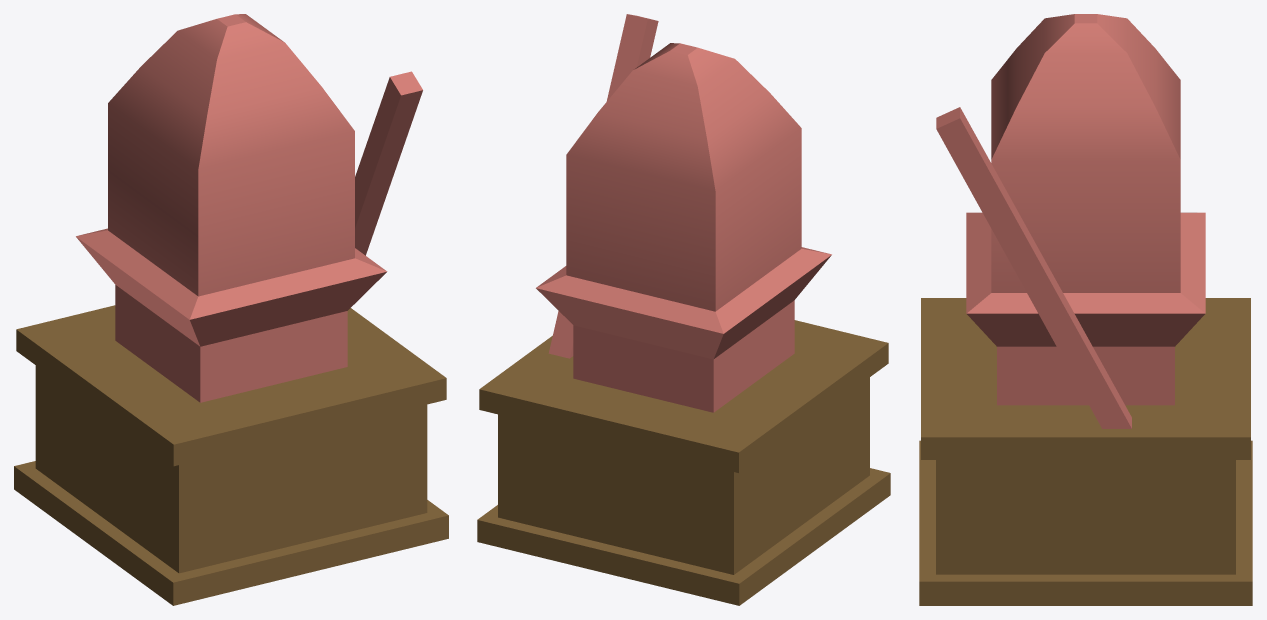
Rendered from bispo.fbx.
3 renders of one model, left to right at view 1: azimuth 30°, elevation 25°; view 2: azimuth 150°, elevation 25°; view 3: azimuth 270°, elevation 25°, orthographic. The views are drawn at different scales.
Visible parts, largest first — view 1: Plane; view 2: Plane; view 3: Plane.
Part boxes in pixels (x1,y1,x2,y2): Plane: [14, 14, 448, 605]; Plane: [477, 14, 890, 605]; Plane: [919, 14, 1252, 605].
Size of the model in its own units: 400 by 684 by 400.
